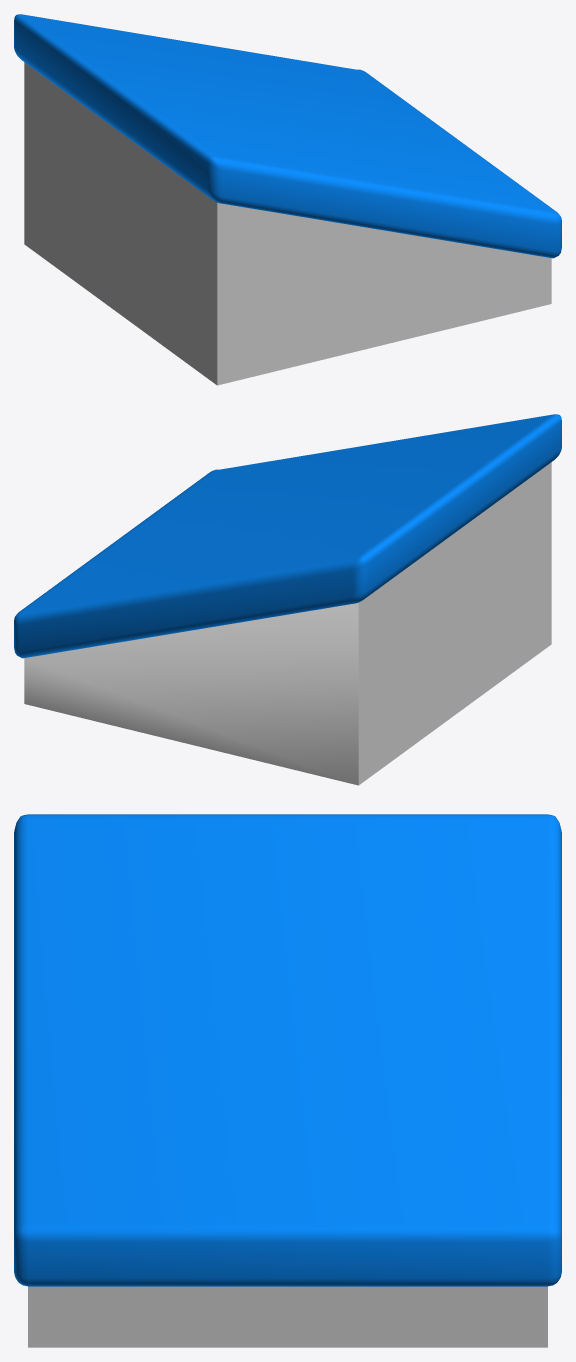
The model's file is Base 1 Ramp Low To Mid White Blue.glb.
3 renders of one model, top to bottom at view 1: azimuth 30°, elevation 25°; view 2: azimuth 150°, elevation 25°; view 3: azimuth 270°, elevation 25°, orthographic. The views are drawn at different scales.
Visible parts, largest first — view 1: Base_1_Ramp_Low_To_Mid_White_; view 2: Base_1_Ramp_Low_To_Mid_White_; view 3: Base_1_Ramp_Low_To_Mid_White_.
Boxes of the visible parts, <box> form: Base_1_Ramp_Low_To_Mid_White_: <box>14,14,561,385</box>; Base_1_Ramp_Low_To_Mid_White_: <box>14,414,561,785</box>; Base_1_Ramp_Low_To_Mid_White_: <box>14,814,561,1347</box>.
Bounding box in the file's own units: 7.98 × 4.98 × 7.98.
